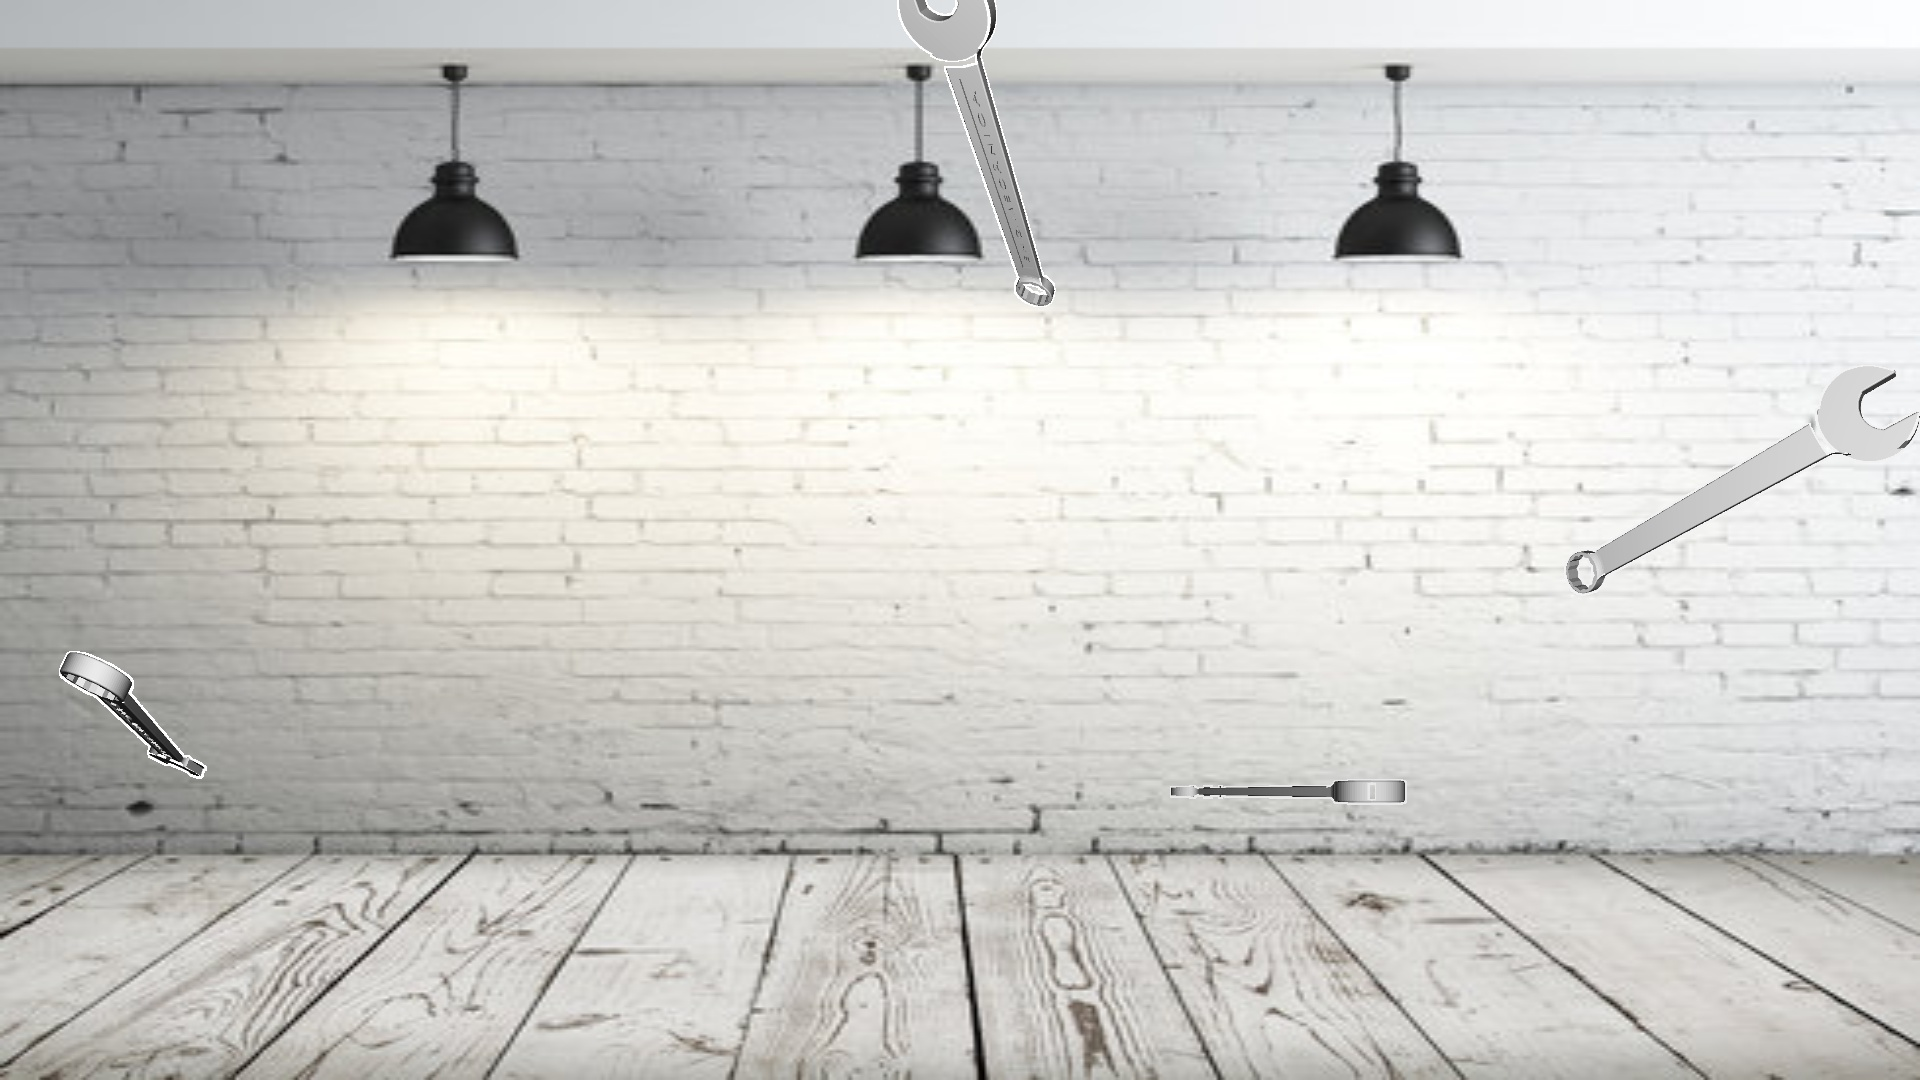Mixed Key: (1564, 365, 1919, 595), (897, 0, 1055, 306), (59, 651, 206, 778), (1170, 779, 1406, 804)
